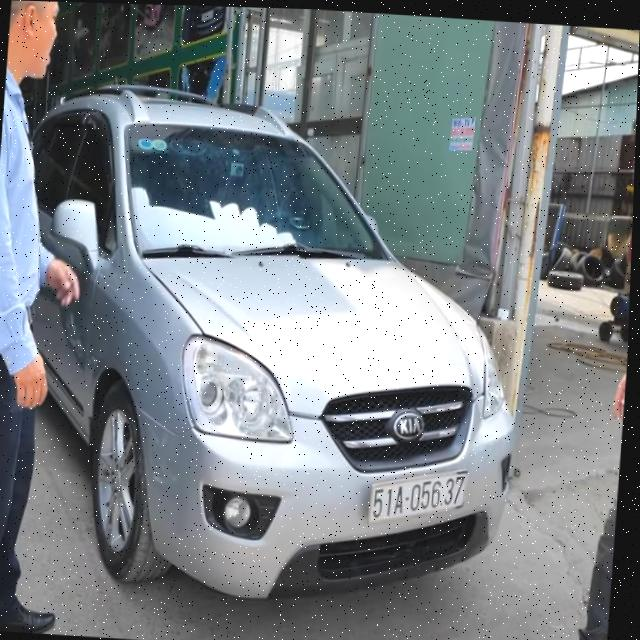car: (0, 77, 559, 635)
plate: (363, 466, 472, 529)
